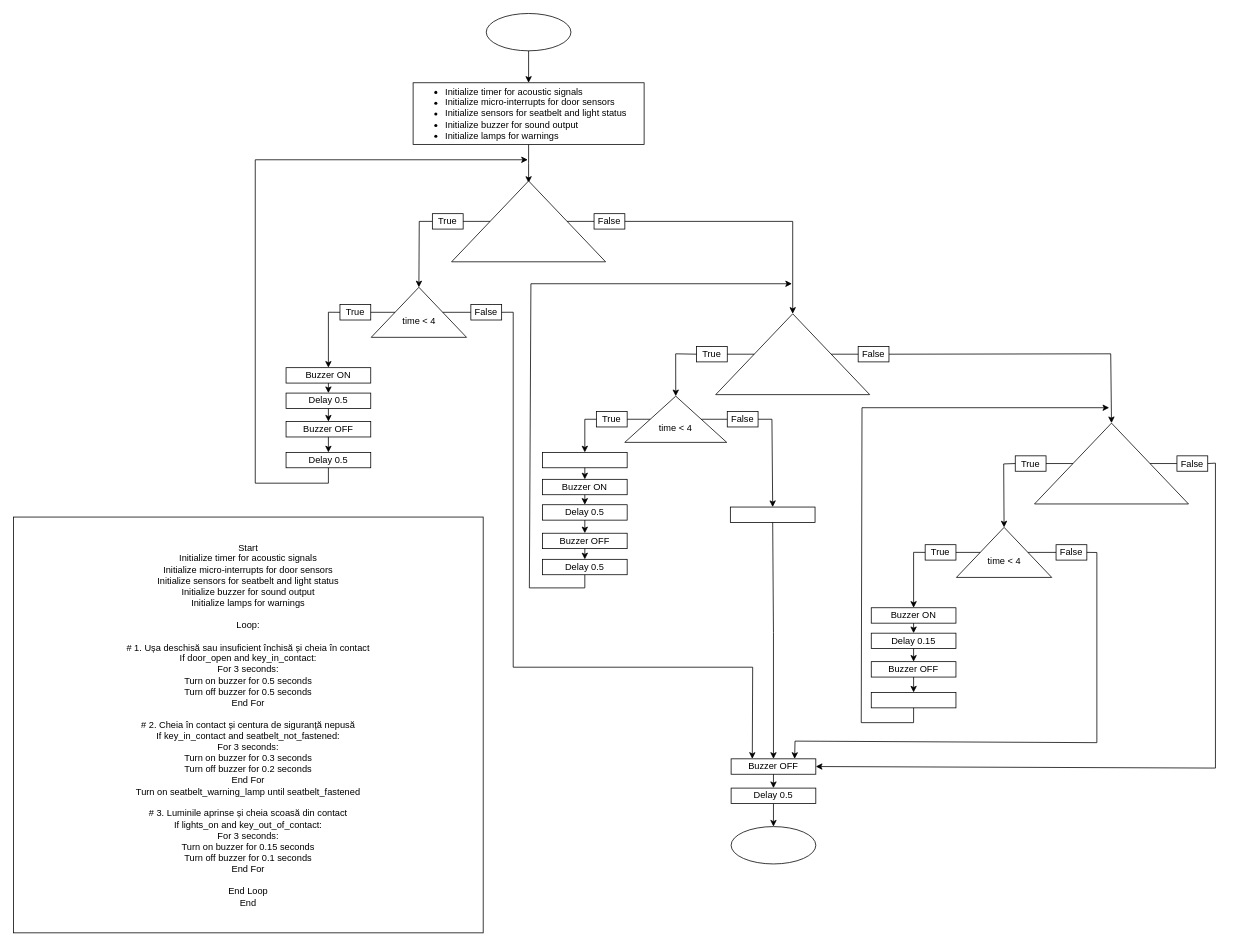
Some shapes in this 1235 by 946 pixel diagram are drawn without their labels. Here are the shapes that lost their labels. From the top down, the box of each, then its label:
(485, 13, 571, 51): Start
(451, 180, 606, 262): If key_contact = 1 and Door_State
(715, 313, 870, 395): If key_contact = 2 and S eatbelt_State
(542, 452, 627, 468): Lamp_airb ON
(1034, 422, 1188, 504): If key_contact = 0 and Car_Light_State
(730, 506, 815, 522): Lamp_airb OFF
(870, 692, 956, 708): Delay 0.1
(730, 826, 816, 864): STOP
